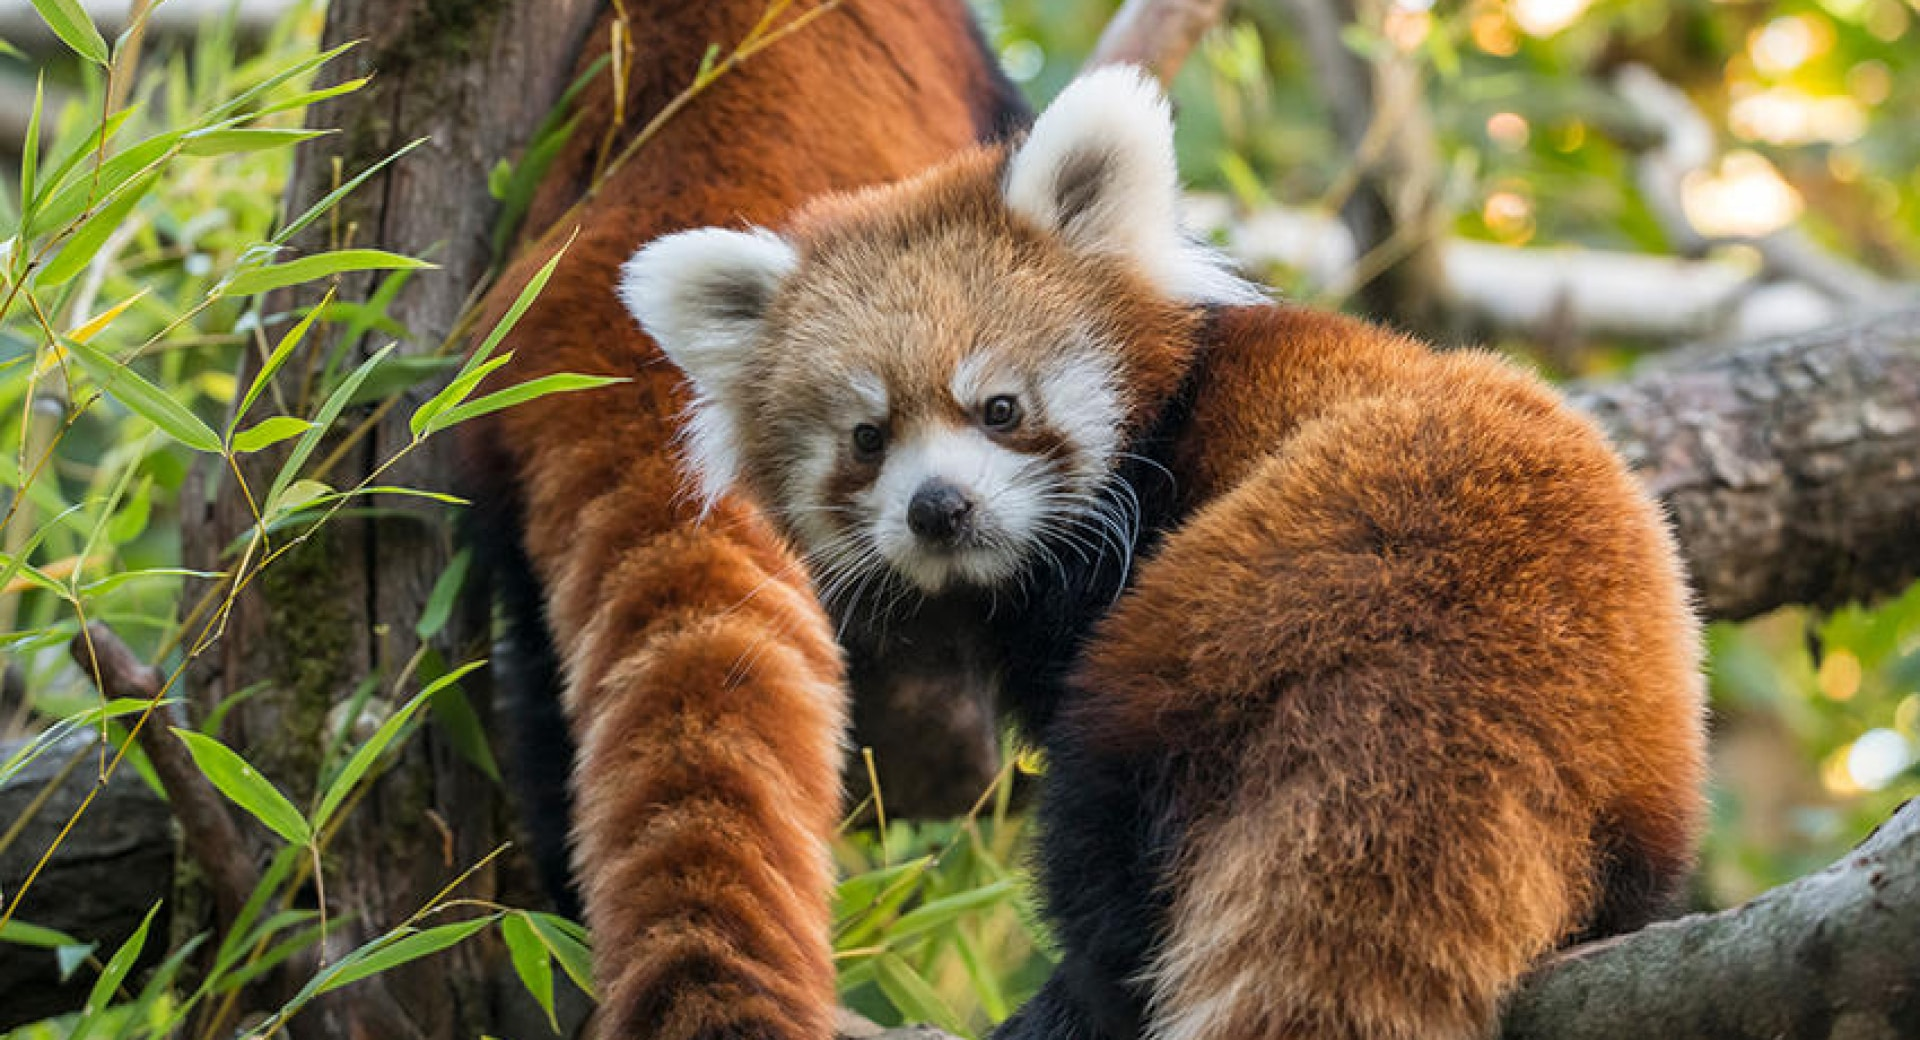Red panda: (623, 87, 1201, 605)
